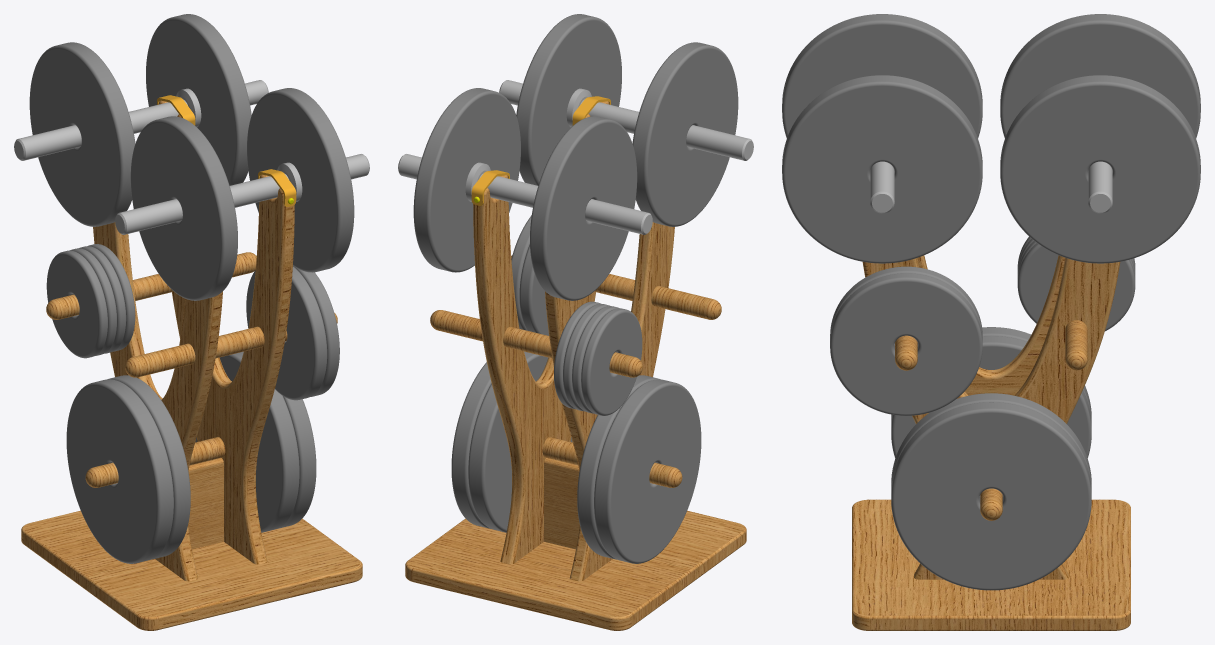
Rendered from support_halteres.glb.
3 views of the same model, side by side, from view 1: azimuth 30°, elevation 25°; view 2: azimuth 150°, elevation 25°; view 3: azimuth 270°, elevation 25° (orthographic). The views are drawn at different scales.
Visible parts, largest first — view 1: Support-1, Haltere-8, Haltere-13, Haltere-12, Haltere-11, Haltere-14, Haltere-9, Haltere-5, Haltere-4, Barre_halteres-1, Haltere-6, Barre_halteres-2 (+6 smaller); view 2: Support-1, Haltere-8, Haltere-12, Haltere-13, Haltere-14, Haltere-11, Haltere-9, Haltere-4, Barre_halteres-2, Barre_halteres-1, Haltere-10, Haltere-6 (+6 smaller); view 3: Support-1, Haltere-10, Haltere-11, Haltere-14, Haltere-7, Haltere-12, Haltere-13, Haltere-1, Haltere-6, Haltere-9, Barre_halteres-1, Barre_halteres-2 (+1 smaller).
Boxes of the visible parts, x1=… form: Support-1: x1=21, y1=100, x2=362, y2=630; Haltere-8: x1=66, y1=379, x2=173, y2=563; Haltere-13: x1=130, y1=116, x2=237, y2=300; Haltere-12: x1=29, y1=42, x2=135, y2=226; Haltere-11: x1=247, y1=88, x2=354, y2=272; Haltere-14: x1=146, y1=14, x2=251, y2=185; Haltere-9: x1=195, y1=351, x2=299, y2=532; Haltere-5: x1=246, y1=266, x2=327, y2=400; Haltere-4: x1=46, y1=250, x2=107, y2=358; Barre_halteres-1: x1=115, y1=154, x2=369, y2=234; Haltere-6: x1=108, y1=375, x2=190, y2=559; Barre_halteres-2: x1=14, y1=80, x2=268, y2=160; Support-1: x1=405, y1=101, x2=746, y2=630; Haltere-8: x1=594, y1=379, x2=701, y2=563; Haltere-12: x1=530, y1=116, x2=637, y2=300; Haltere-13: x1=632, y1=42, x2=738, y2=226; Haltere-14: x1=413, y1=88, x2=520, y2=272; Haltere-11: x1=516, y1=14, x2=621, y2=185; Haltere-9: x1=468, y1=351, x2=572, y2=532; Haltere-4: x1=581, y1=308, x2=642, y2=415; Barre_halteres-2: x1=398, y1=154, x2=652, y2=234; Barre_halteres-1: x1=499, y1=80, x2=753, y2=160; Haltere-10: x1=451, y1=362, x2=491, y2=528; Haltere-6: x1=577, y1=375, x2=659, y2=559; Support-1: x1=852, y1=255, x2=1130, y2=630; Haltere-10: x1=891, y1=402, x2=1091, y2=590; Haltere-11: x1=782, y1=75, x2=982, y2=263; Haltere-14: x1=1000, y1=75, x2=1200, y2=263; Haltere-7: x1=830, y1=273, x2=982, y2=415; Haltere-12: x1=1000, y1=14, x2=1200, y2=138; Haltere-13: x1=782, y1=14, x2=982, y2=138; Haltere-1: x1=1017, y1=243, x2=1135, y2=331; Haltere-6: x1=891, y1=336, x2=1091, y2=457; Haltere-9: x1=891, y1=393, x2=1091, y2=496; Barre_halteres-1: x1=870, y1=161, x2=894, y2=213; Barre_halteres-2: x1=1088, y1=161, x2=1112, y2=213.
Bounding box in the file's own units: 0.35 × 0.664 × 0.48.
5 materials, 1 textured.
